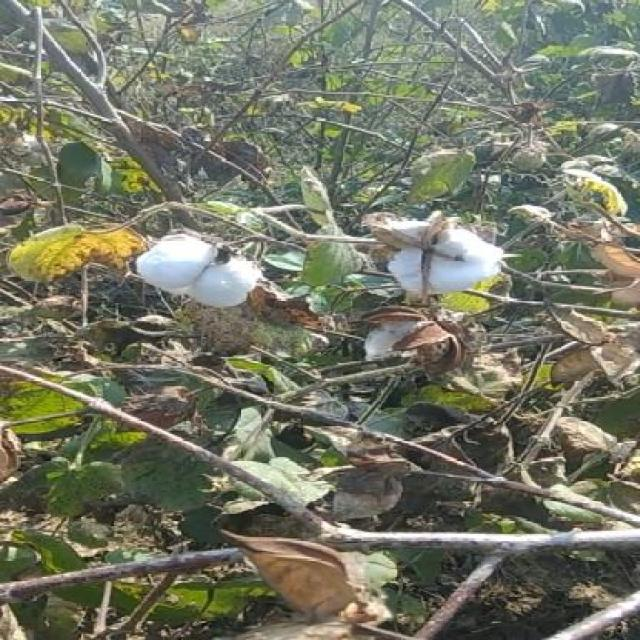cotton_ready: (342, 203, 523, 299), (107, 228, 285, 322)
